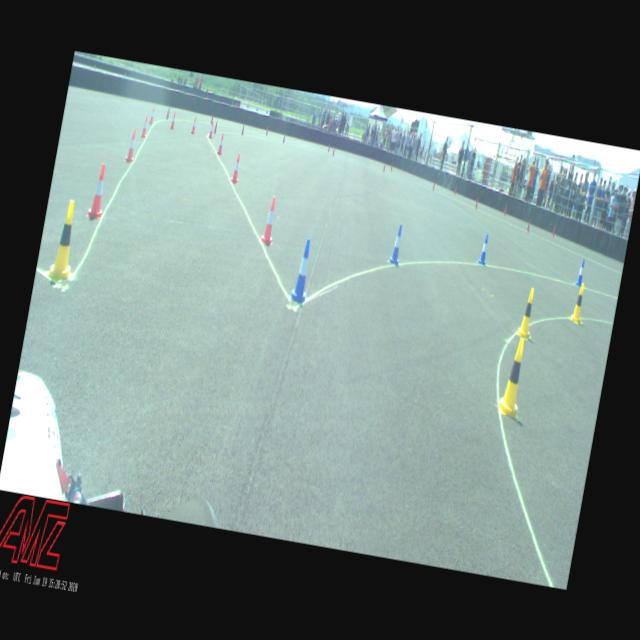blue_cone: (287, 236, 317, 304), (386, 222, 406, 266), (478, 234, 490, 265), (574, 258, 586, 286)
orange_cone: (86, 163, 110, 218), (260, 196, 280, 243), (124, 128, 138, 162), (230, 152, 242, 182), (139, 114, 149, 138), (217, 133, 224, 154), (148, 106, 156, 124), (170, 112, 177, 130), (190, 117, 197, 134), (208, 121, 215, 138)
unknown_cone: (550, 224, 556, 236), (213, 120, 218, 134), (165, 106, 170, 120), (526, 218, 530, 232), (210, 112, 214, 124), (503, 204, 507, 216), (474, 198, 478, 209), (240, 124, 244, 134), (327, 142, 330, 152), (382, 162, 385, 172), (453, 185, 456, 195), (282, 134, 285, 142), (332, 146, 334, 156), (390, 162, 392, 172), (432, 180, 434, 190), (266, 126, 268, 135)
yellow_cone: (47, 198, 83, 279), (496, 335, 530, 419), (515, 286, 539, 341), (568, 282, 588, 325)
